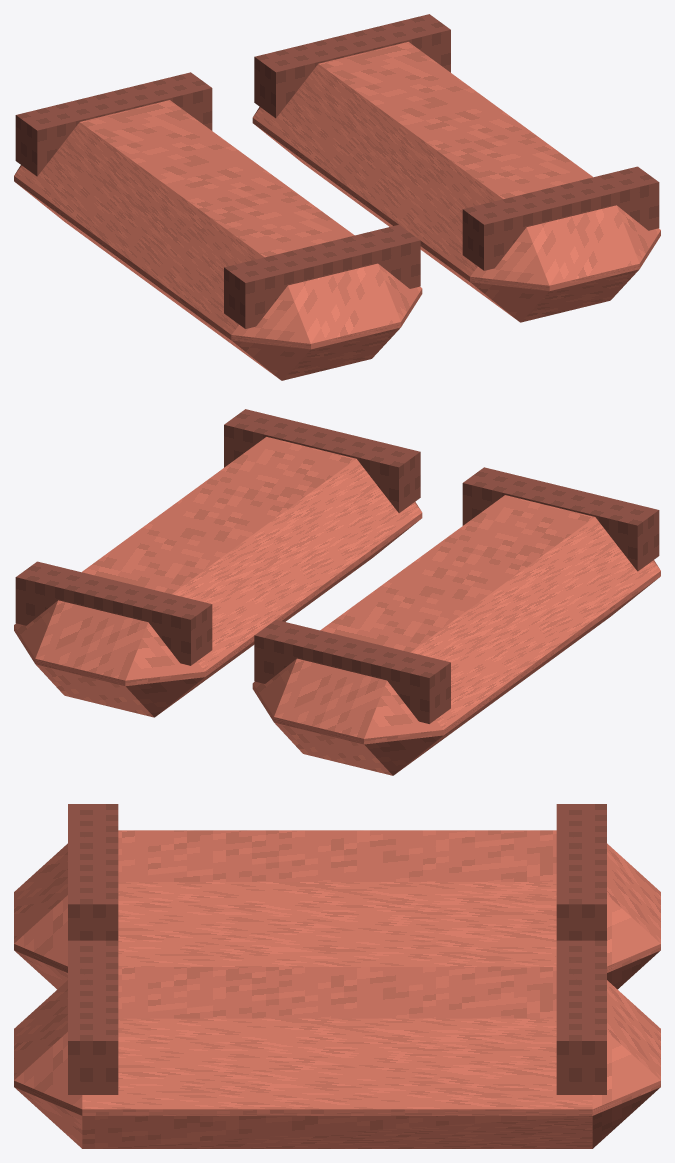
File: armguard_soft.glb
The picture shows the model from 3 angles, top to bottom: view 1: azimuth 30°, elevation 25°; view 2: azimuth 150°, elevation 25°; view 3: azimuth 270°, elevation 25°; orthographic projection. The views are drawn at different scales.
Visible parts, largest first — view 1: block_neoprene forearm sleeve (×2), block_elastic opening (×4); view 2: block_neoprene forearm sleeve (×2), block_elastic opening (×4); view 3: block_neoprene forearm sleeve (×2), block_elastic opening (×4).
Boxes of the visible parts, x1,y1,x2,y2 form: block_neoprene forearm sleeve (×2): (14,42,660,380); block_elastic opening (×4): (15,14,659,328); block_neoprene forearm sleeve (×2): (14,437,660,775); block_elastic opening (×4): (15,409,659,723); block_neoprene forearm sleeve (×2): (14,830,660,1148); block_elastic opening (×4): (68,804,606,1094).
Size of the model in its own units: 0.1865 by 0.0467 by 0.2072.
Materials: 1 (1 with a texture image).
